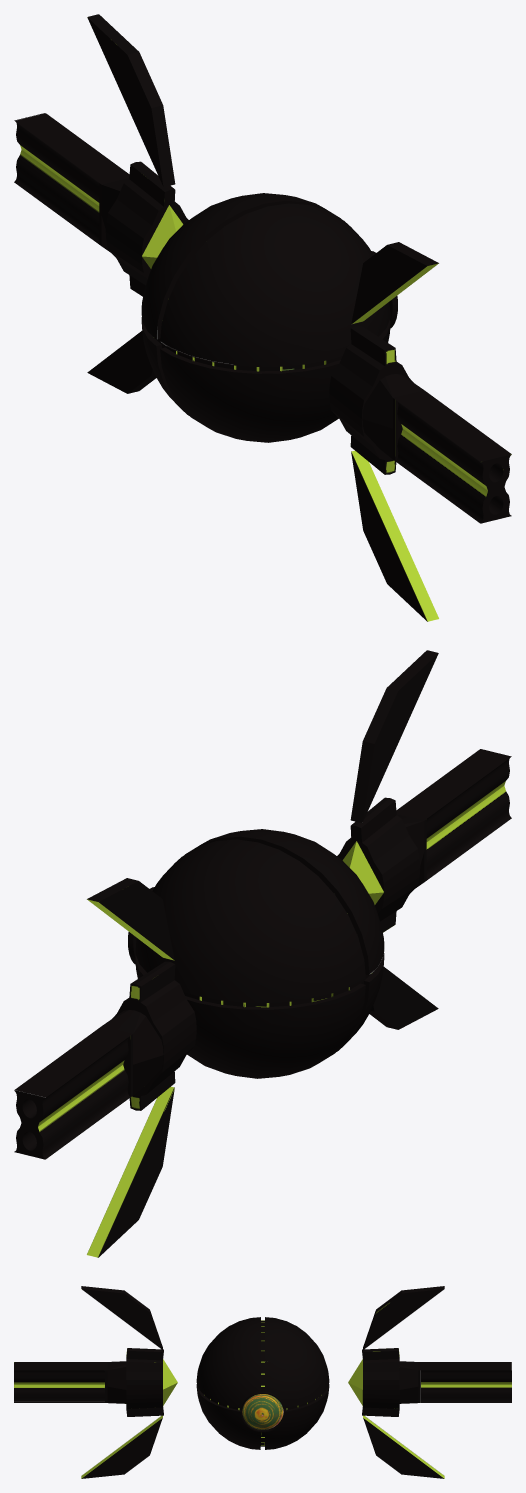
File: Enemy3.fbx
The picture shows the model from 3 angles, top to bottom: view 1: azimuth 30°, elevation 25°; view 2: azimuth 150°, elevation 25°; view 3: azimuth 270°, elevation 25°; orthographic projection. The views are drawn at different scales.
Visible parts, largest first — view 1: Circle; view 2: Circle; view 3: Circle.
Boxes of the visible parts, x1=… form: Circle: x1=14, y1=14, x2=511, y2=621; Circle: x1=14, y1=650, x2=511, y2=1257; Circle: x1=14, y1=1286, x2=511, y2=1478.
Bounding box in the file's own units: 209 × 314 × 747.
